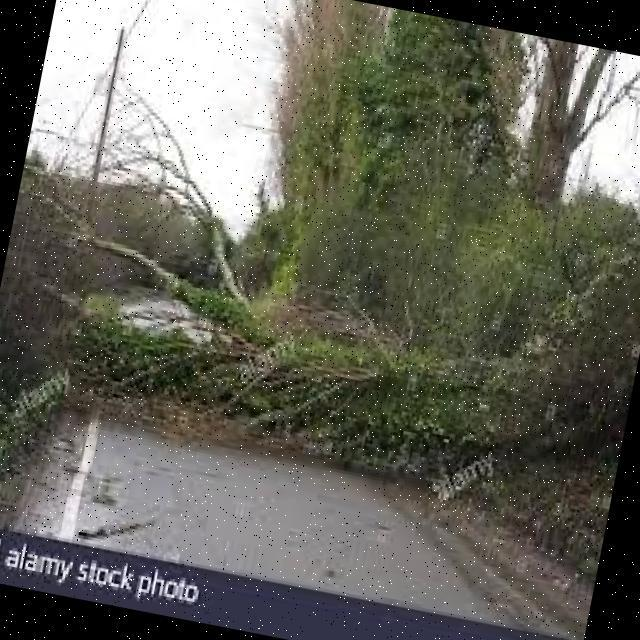fallen_object: (23, 195, 569, 500)
